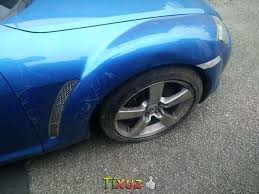Scratch: (75, 70, 121, 135), (15, 86, 45, 126)
